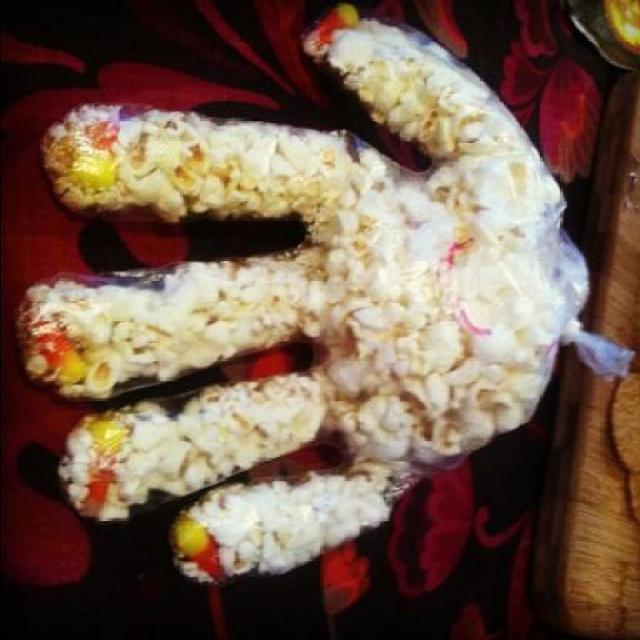Popcorn: (16, 3, 580, 592)
